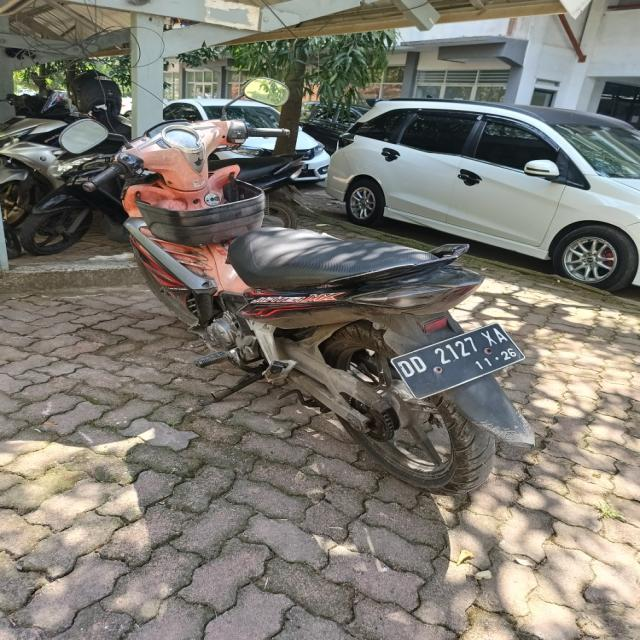plates: (399, 322, 523, 392)
